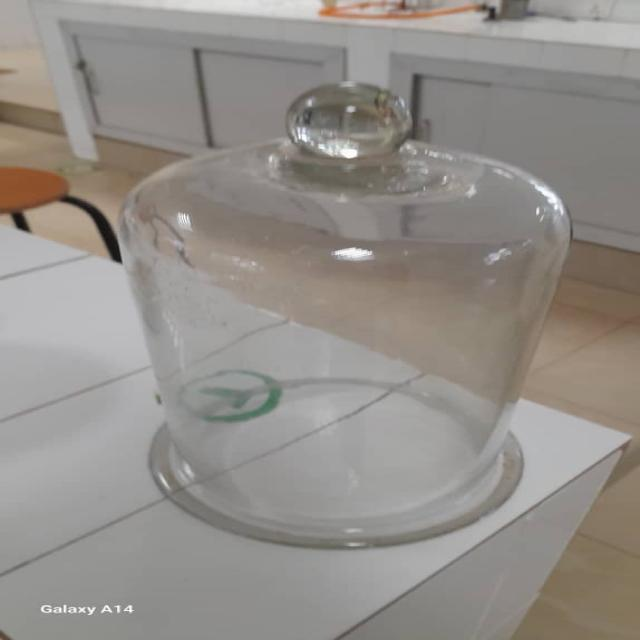Gas Bottle: (98, 79, 556, 553)
